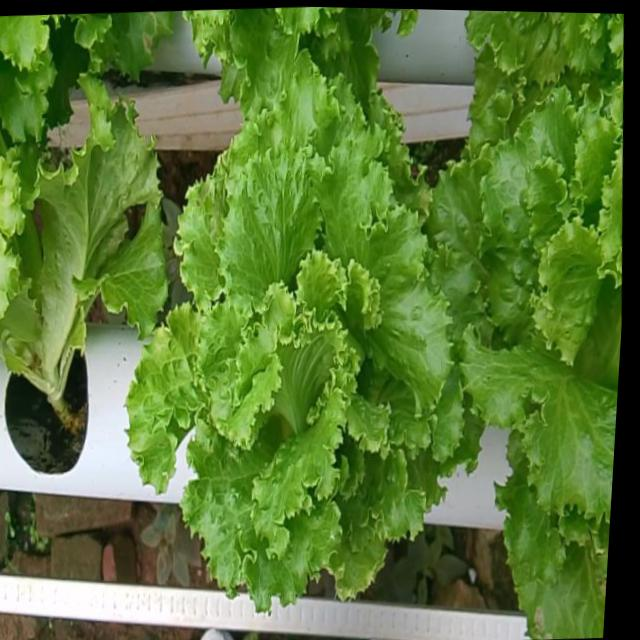Mature: (120, 88, 455, 628), (422, 100, 622, 542)
